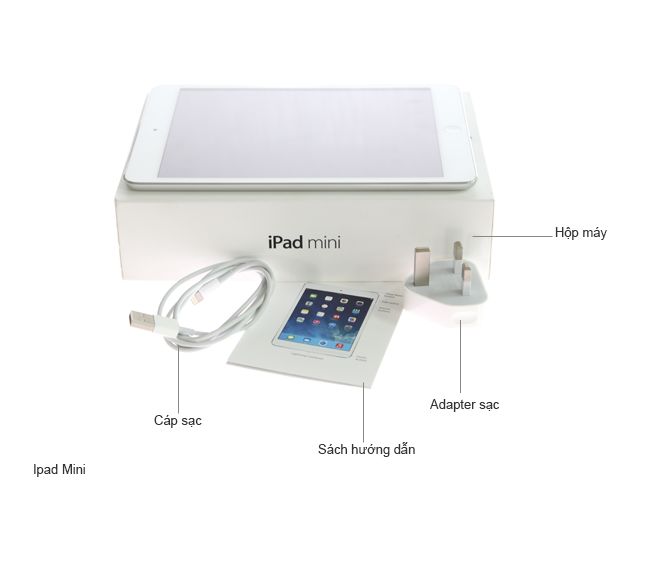Apple: (257, 221, 350, 259)
